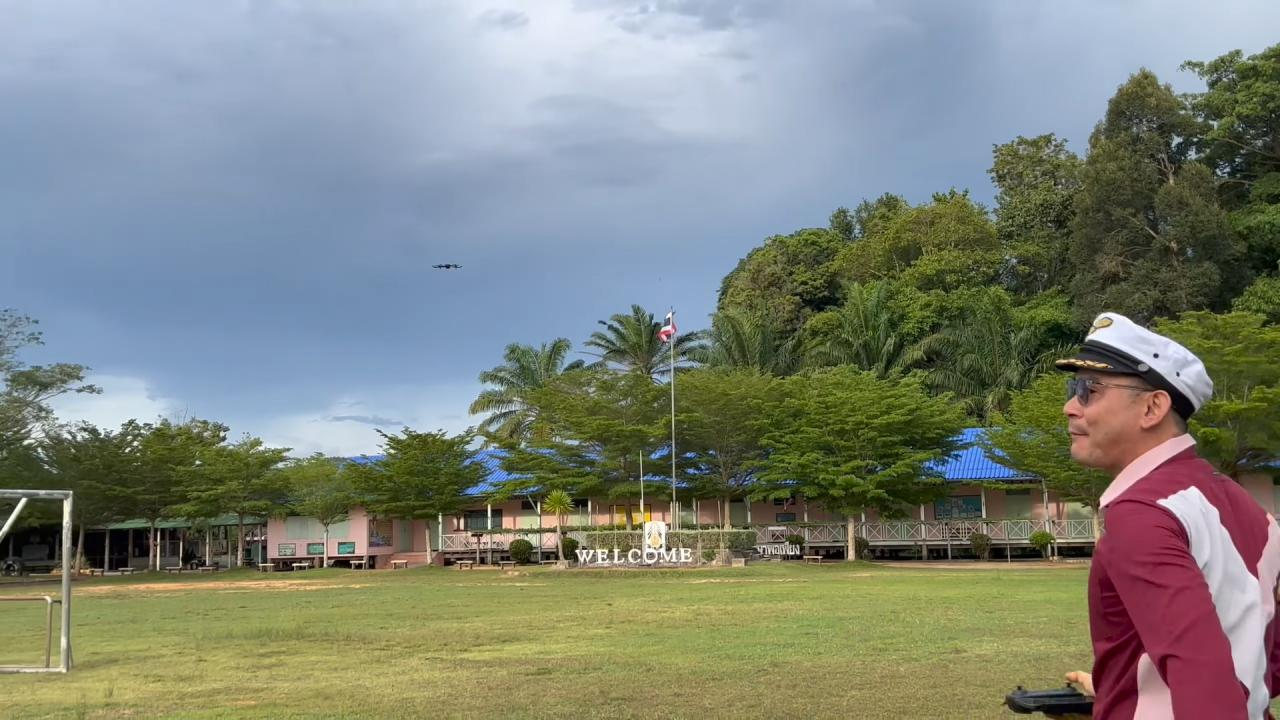Drone: (423, 253, 469, 281)
